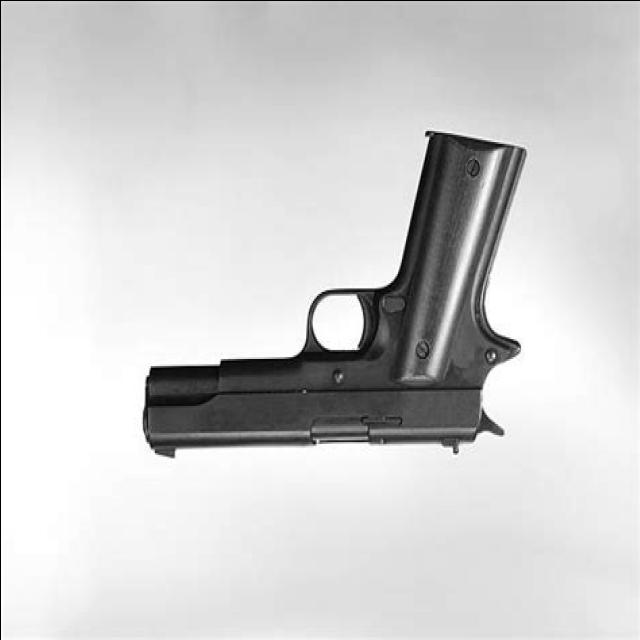weapons: (114, 110, 546, 498)
